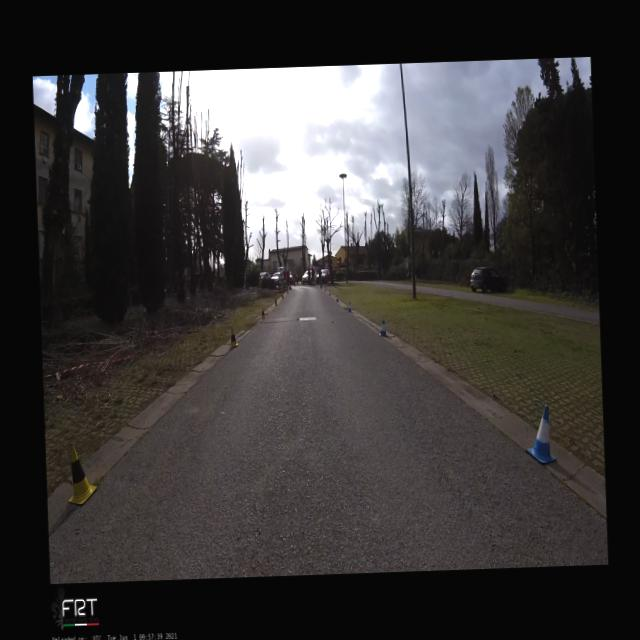blue_cone: (524, 404, 556, 464), (378, 318, 387, 337), (346, 300, 352, 312), (335, 294, 338, 302), (328, 289, 331, 295)
yellow_cone: (65, 442, 98, 504), (228, 327, 238, 347), (260, 308, 265, 319), (274, 298, 278, 306), (281, 294, 283, 298)
